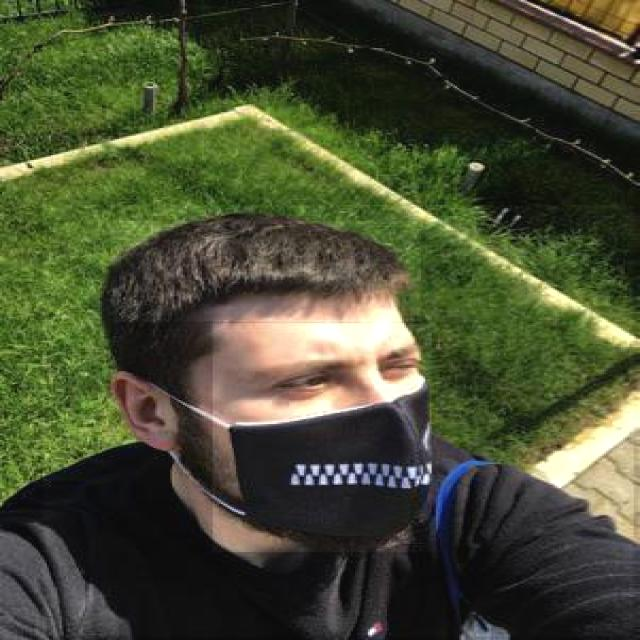face_mask: (212, 323, 433, 554)
head_nohelmet: (113, 220, 421, 322)
person: (42, 205, 636, 638)
